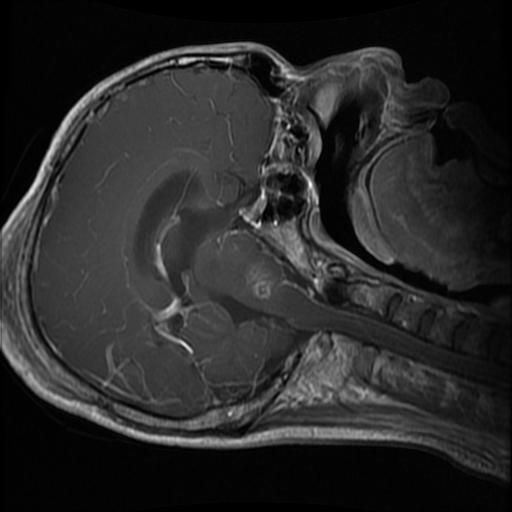glioma: (245, 263, 277, 299)
